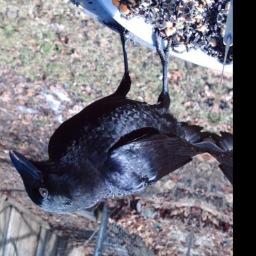Crow: (0, 1, 228, 244)
